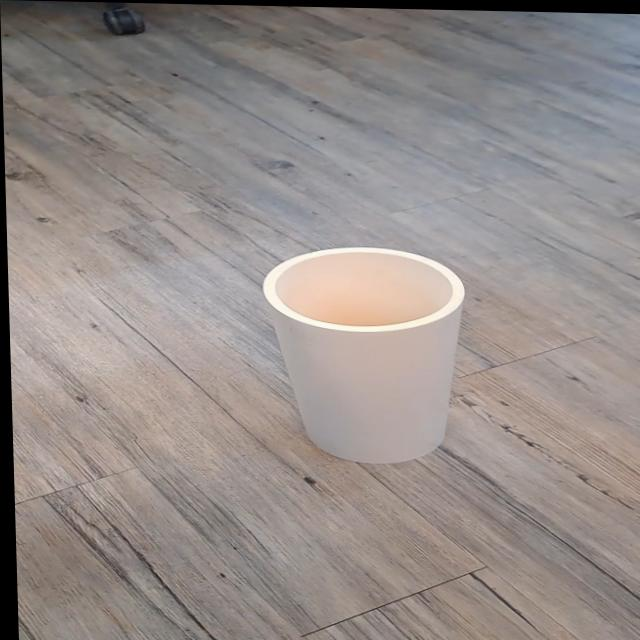CORAL: (238, 227, 541, 480)
